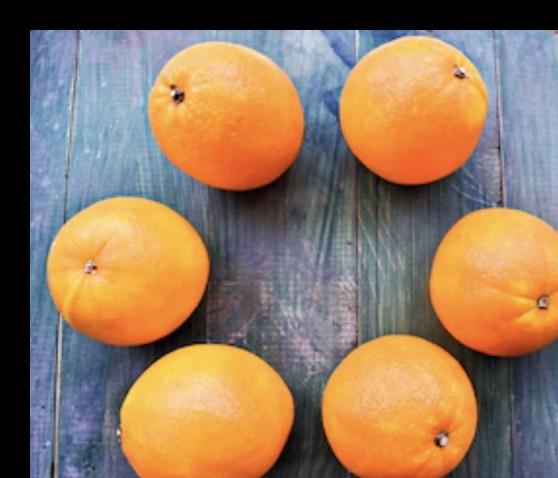fresh_orange: (48, 196, 211, 344), (116, 342, 293, 478), (147, 41, 304, 189), (320, 331, 478, 478), (339, 32, 488, 187), (428, 207, 558, 359)
